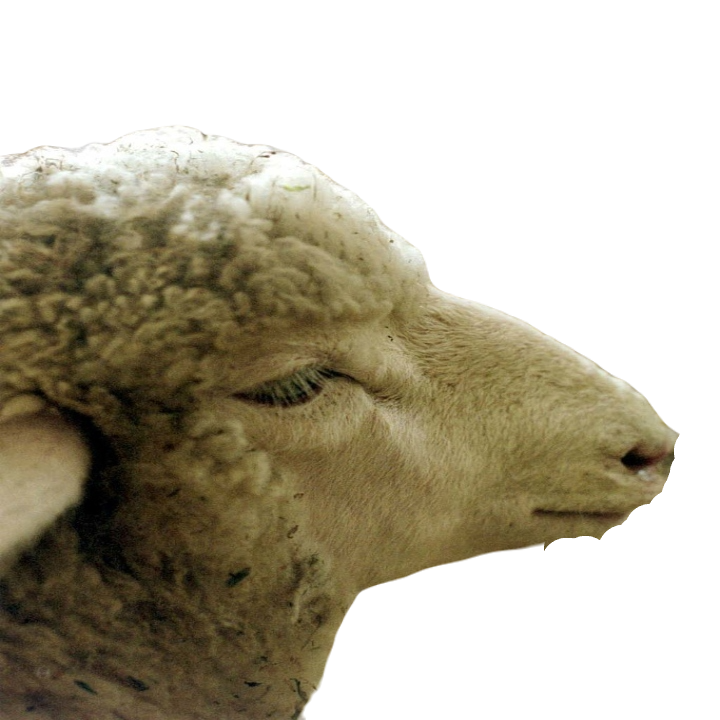Sheep: (0, 122, 682, 719)
